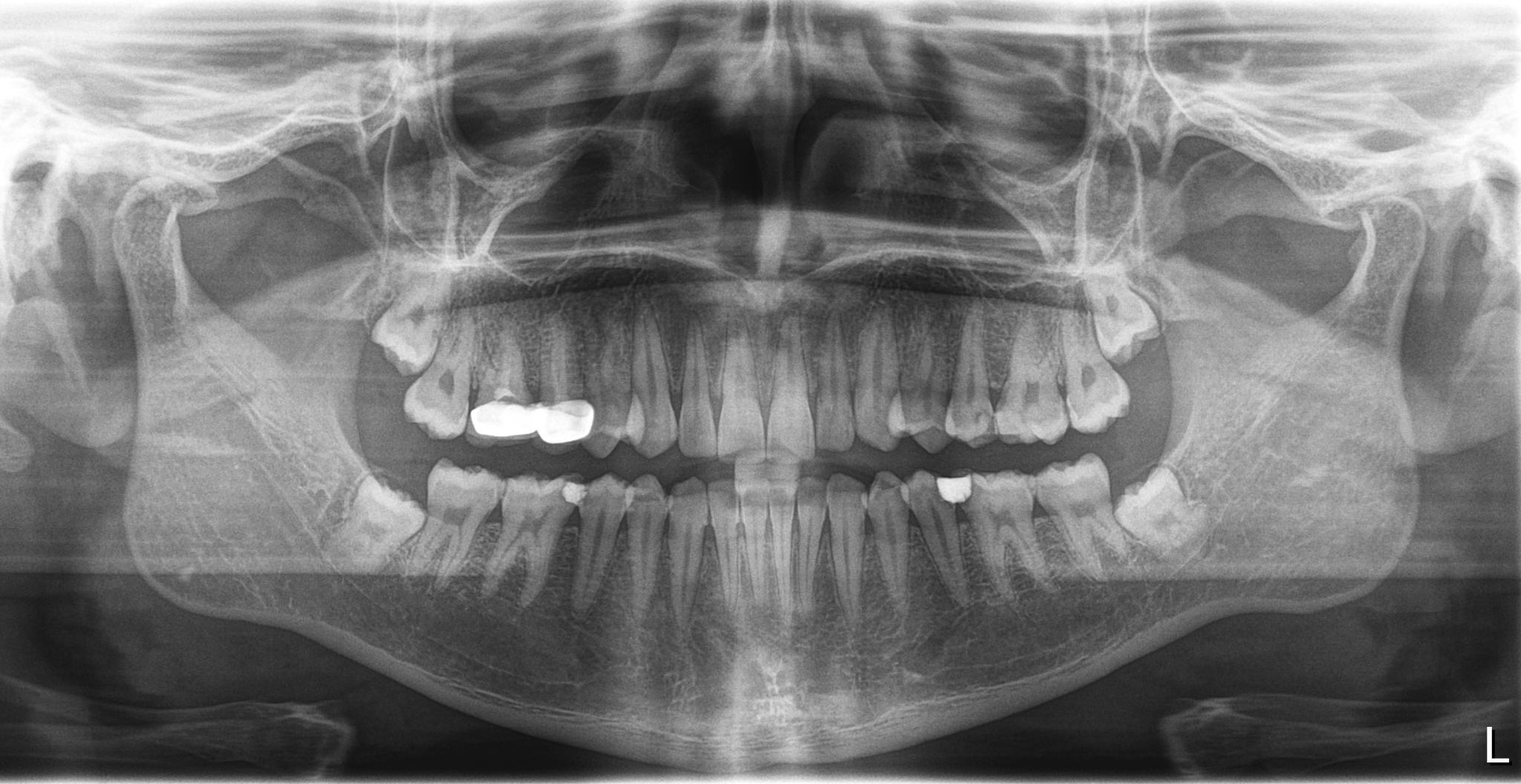Impacted Third Molar: (1118, 472, 1193, 562), (1095, 278, 1165, 365), (353, 481, 420, 567), (373, 293, 431, 369)
